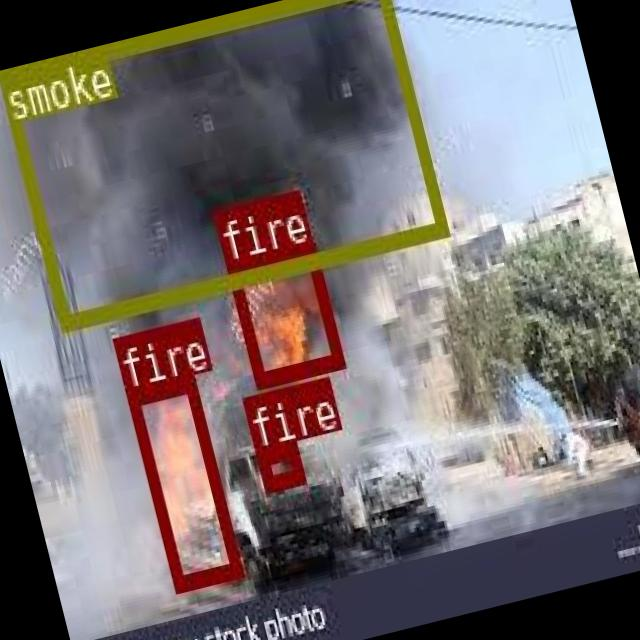fire: (123, 374, 241, 590), (225, 242, 342, 386), (254, 440, 302, 489)
smoke: (0, 0, 448, 329)
